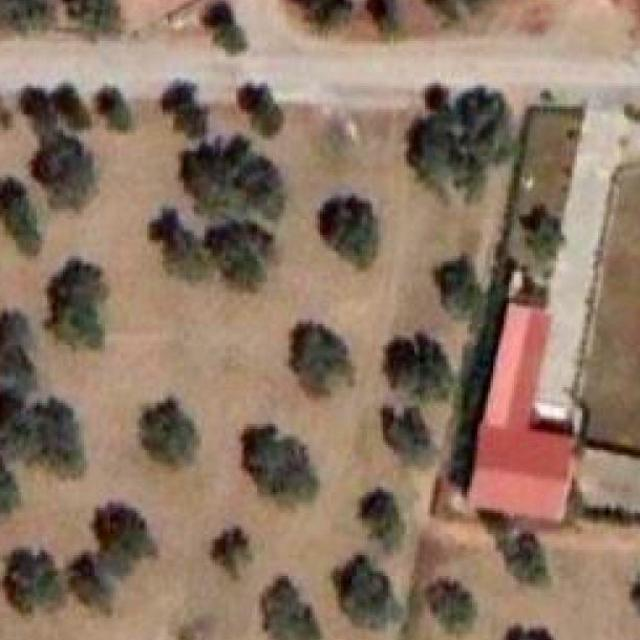Tree: (407, 83, 511, 197), (182, 135, 288, 227), (0, 392, 88, 478), (42, 258, 111, 345), (202, 212, 275, 292), (34, 128, 102, 213), (245, 424, 321, 500), (334, 555, 403, 630), (92, 503, 158, 577), (152, 207, 212, 286), (288, 323, 352, 396), (317, 195, 378, 269), (386, 332, 453, 398), (0, 172, 49, 259), (262, 576, 323, 640), (378, 403, 438, 466), (3, 548, 62, 612), (142, 398, 199, 463), (0, 312, 46, 389), (63, 546, 116, 608), (496, 531, 550, 591), (436, 256, 482, 317), (427, 579, 477, 635), (360, 490, 405, 550), (162, 80, 208, 137), (208, 521, 255, 576), (58, 0, 125, 37), (240, 83, 286, 136), (19, 86, 57, 147), (524, 203, 562, 264), (286, 0, 352, 34), (0, 432, 23, 516), (365, 0, 409, 43), (49, 83, 89, 130), (425, 0, 493, 24), (0, 0, 57, 28), (98, 86, 132, 131), (491, 620, 557, 640), (213, 28, 245, 60), (201, 0, 236, 28), (0, 86, 13, 130)
